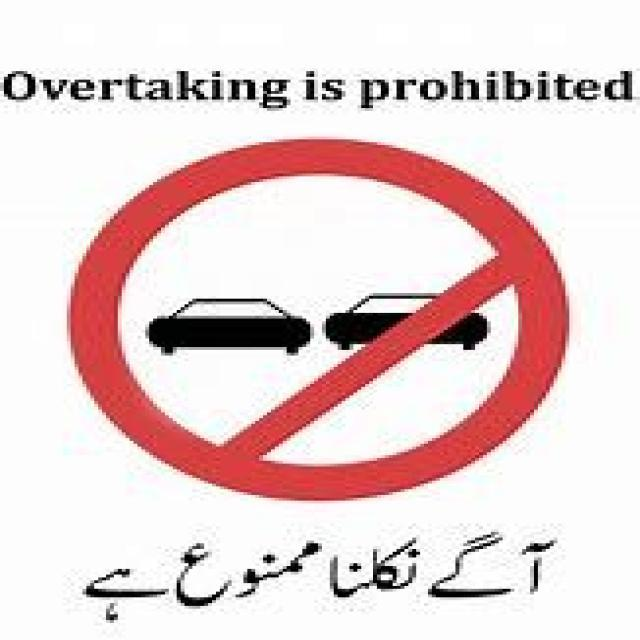overtaking prohibited: (65, 130, 576, 503)
